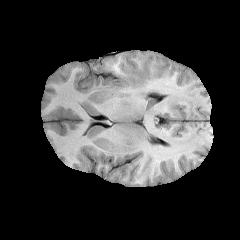glioma: (117, 67, 155, 91)
